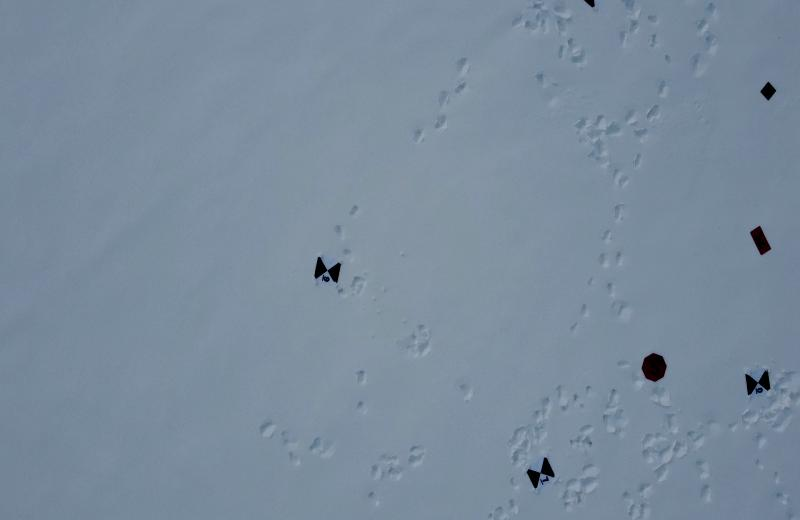Octagon: (638, 348, 668, 382)
Rectangle: (747, 221, 773, 260)
Square: (757, 80, 780, 104)
